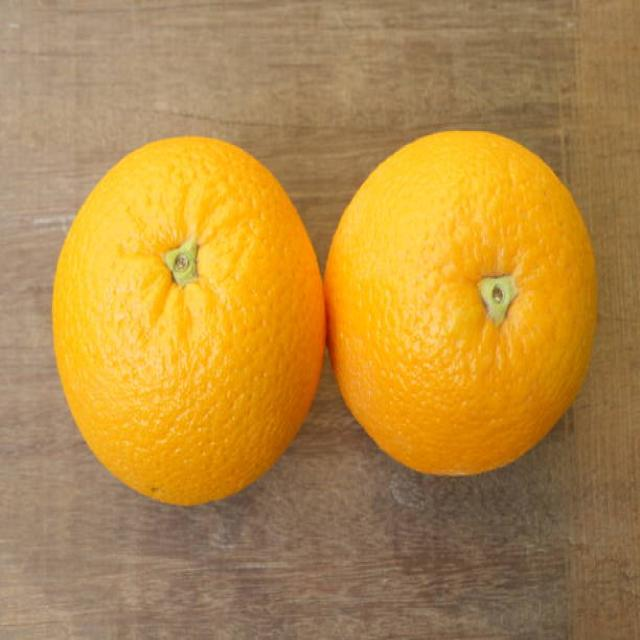Ripe: (48, 134, 324, 507), (329, 126, 600, 481)
